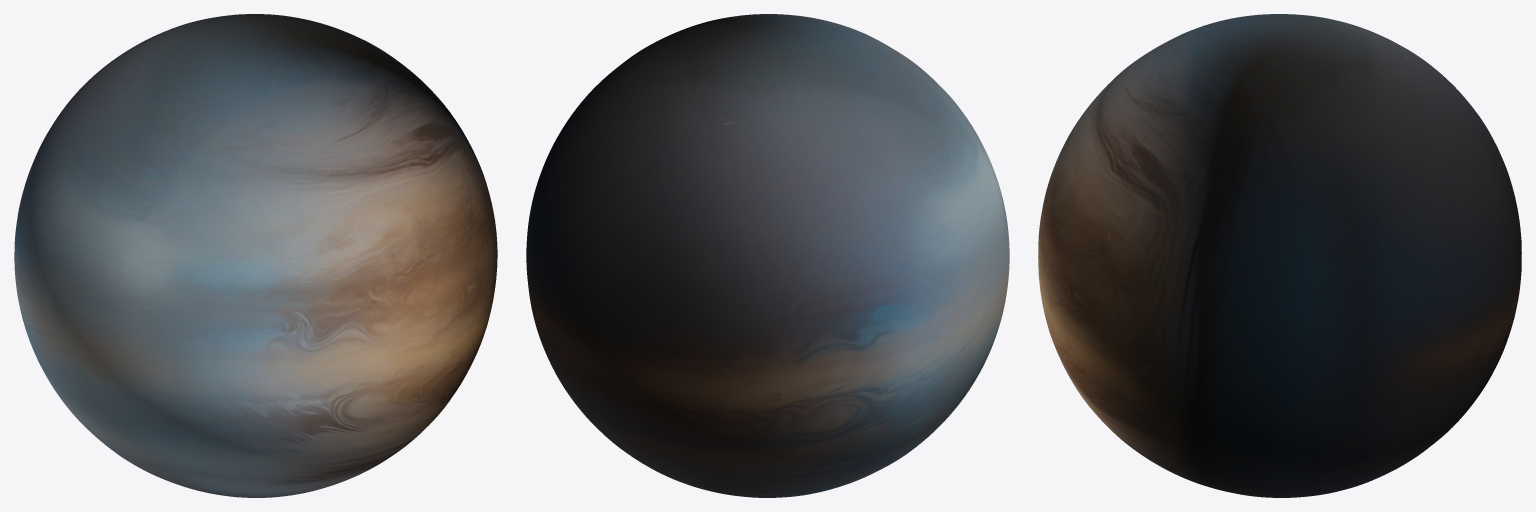
The picture shows the model from 3 angles, left to right: view 1: azimuth 30°, elevation 25°; view 2: azimuth 150°, elevation 25°; view 3: azimuth 270°, elevation 25°; orthographic projection.
Size of the model in its own units: 2 by 2 by 2.
1 material, 1 textured.
